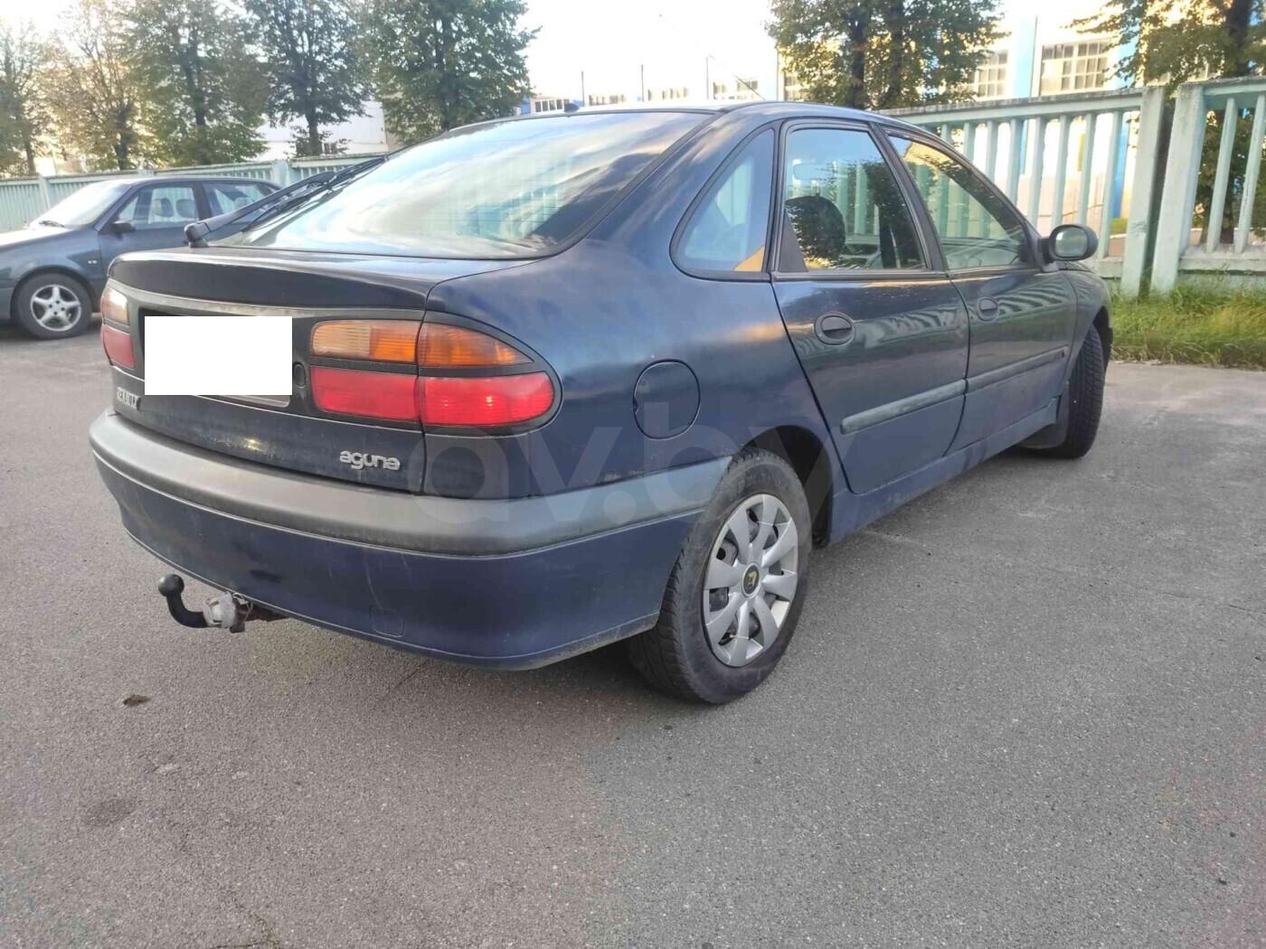Laguna_1998-2001: (81, 80, 1115, 713)
